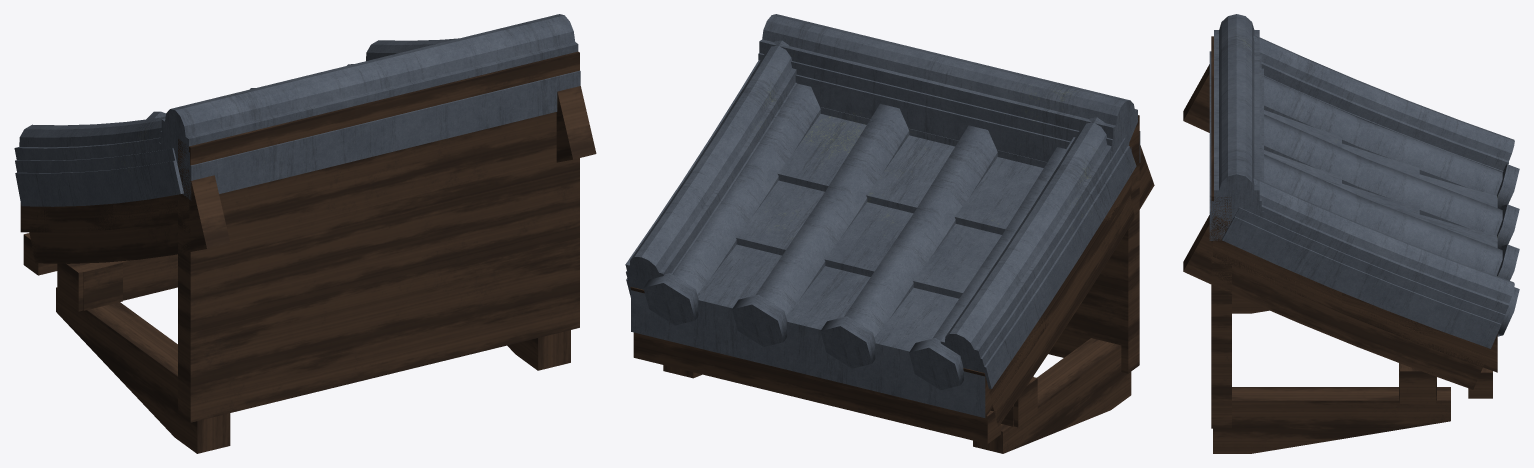
File: HO_Roof_Hisashi_4.fbx
3 views of the same model, side by side, from view 1: azimuth 30°, elevation 25°; view 2: azimuth 150°, elevation 25°; view 3: azimuth 270°, elevation 25° (orthographic). The views are drawn at different scales.
Visible parts, largest first — view 1: HO_Roof_Hisashi_4__Timber_Dark, HO_Roof_Hisashi_4__RoofTile_Clay; view 2: HO_Roof_Hisashi_4__RoofTile_Clay, HO_Roof_Hisashi_4__Timber_Dark; view 3: HO_Roof_Hisashi_4__RoofTile_Clay, HO_Roof_Hisashi_4__Timber_Dark.
Boxes of the visible parts, x1=… form: HO_Roof_Hisashi_4__Timber_Dark: x1=20, y1=51, x2=596, y2=453; HO_Roof_Hisashi_4__RoofTile_Clay: x1=14, y1=14, x2=580, y2=206; HO_Roof_Hisashi_4__RoofTile_Clay: x1=625, y1=14, x2=1140, y2=417; HO_Roof_Hisashi_4__Timber_Dark: x1=630, y1=115, x2=1154, y2=453; HO_Roof_Hisashi_4__RoofTile_Clay: x1=1209, y1=14, x2=1519, y2=348; HO_Roof_Hisashi_4__Timber_Dark: x1=1183, y1=36, x2=1498, y2=453.
Bounding box in the file's own units: 4.07 × 3.29 × 3.55.
